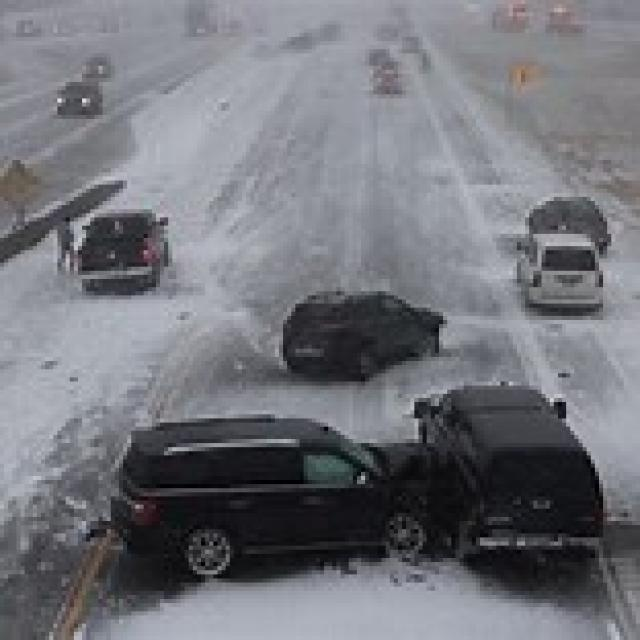Accident: (96, 334, 640, 636)
